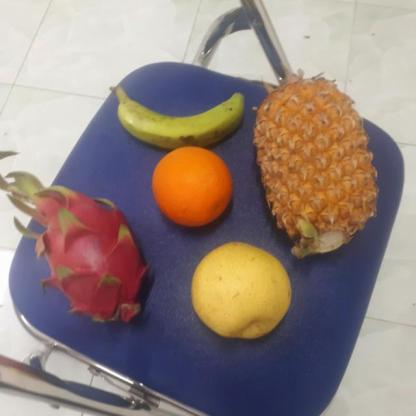banana: (118, 67, 248, 149)
orange: (152, 147, 236, 227)
pear: (192, 244, 294, 338)
pineapple: (254, 82, 376, 247)
pitaya: (30, 193, 155, 327)
